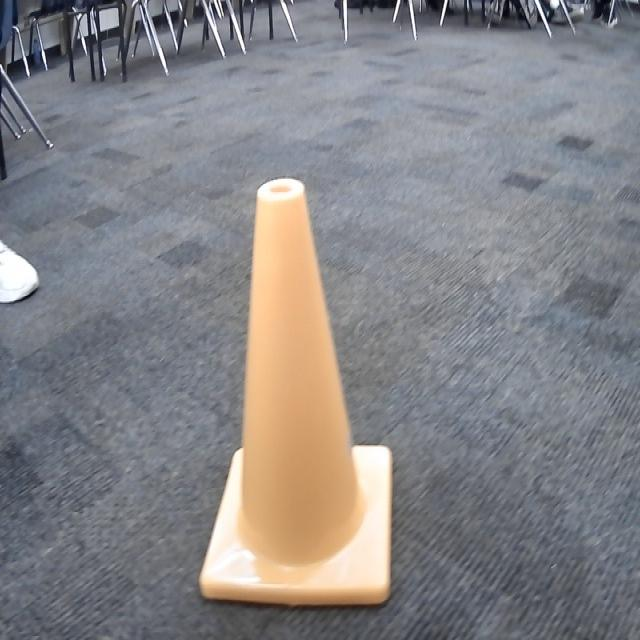cone: (202, 180, 392, 608)
